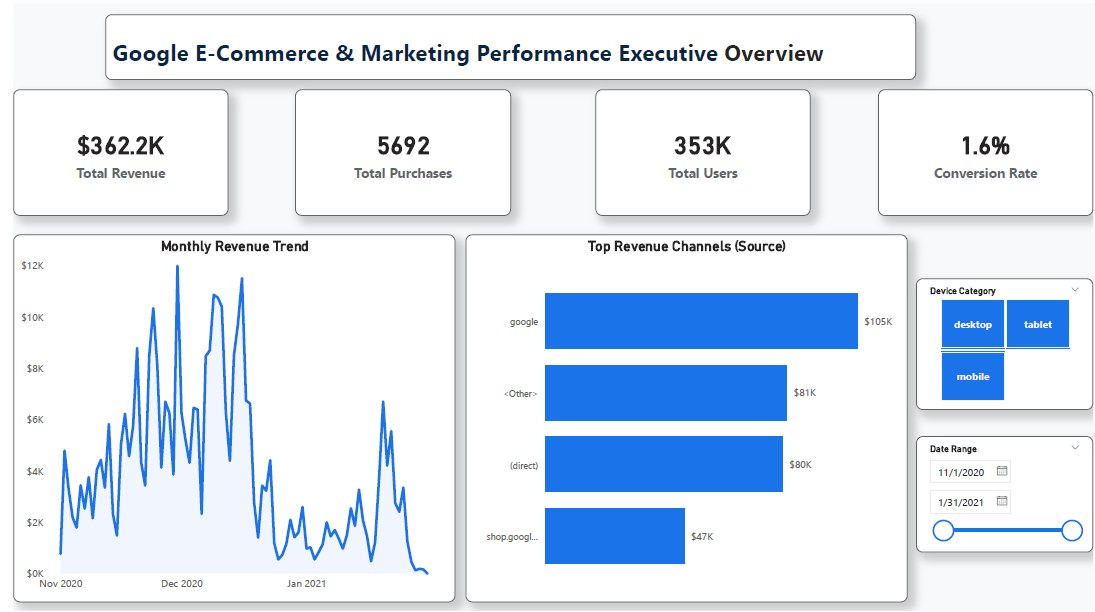

Layout of this report page (visuals, bound fields, positions):
{"tool":"powerbi","page":{"name":"Executive Overview","canvas":[1280,720],"ordinal":0},"visuals":[{"type":"textbox","box":[109.1,12.8,960.9,78],"z":0},{"type":"card","fields":{"Values":["_Measures.Total Revenue"]},"box":[0,102,255.1,150.2],"z":1000},{"type":"card","fields":{"Values":["_Measures.Total Purchases"]},"box":[334.5,102,255.1,150.2],"z":2000},{"type":"card","fields":{"Values":["_Measures.Total Users"]},"box":[690.2,102,255.1,150.2],"z":3000},{"type":"card","fields":{"Values":["_Measures.Conversion Rate"]},"box":[1024.7,102,255.1,150.2],"z":4000},{"type":"areaChart","title":"Monthly Revenue Trend","fields":{"Y":["_Measures.Total Revenue"],"Category":["Query1.event_date"]},"box":[0,273.5,524.4,436.5],"z":5000},{"type":"clusteredBarChart","title":"Top Revenue Channels (Source)","fields":{"Category":["Query1.source"],"Y":["_Measures.Total Revenue"]},"box":[535.7,273.5,524.4,436.5],"z":6000},{"type":"slicer","fields":{"Values":["Query1.device_category"]},"box":[1070.1,326,209.8,155.9],"z":7000},{"type":"slicer","fields":{"Values":["Query1.event_date"]},"box":[1070.1,513.1,209.8,137.5],"z":8000}]}

Visuals, with their boxes in screenshot pixels (x1, y1, x2, y2), scaled from the page's 1280x720 canvas onto the 1095x612 screenshot:
textbox: 93, 11, 915, 77
card - _Measures.Total Revenue: 0, 87, 218, 214
card - _Measures.Total Purchases: 286, 87, 504, 214
card - _Measures.Total Users: 590, 87, 809, 214
card - _Measures.Conversion Rate: 877, 87, 1094, 214
"Monthly Revenue Trend" areaChart: 0, 232, 449, 604
"Top Revenue Channels (Source)" clusteredBarChart: 458, 232, 907, 604
slicer - Query1.device_category: 915, 277, 1094, 410
slicer - Query1.event_date: 915, 436, 1094, 553
